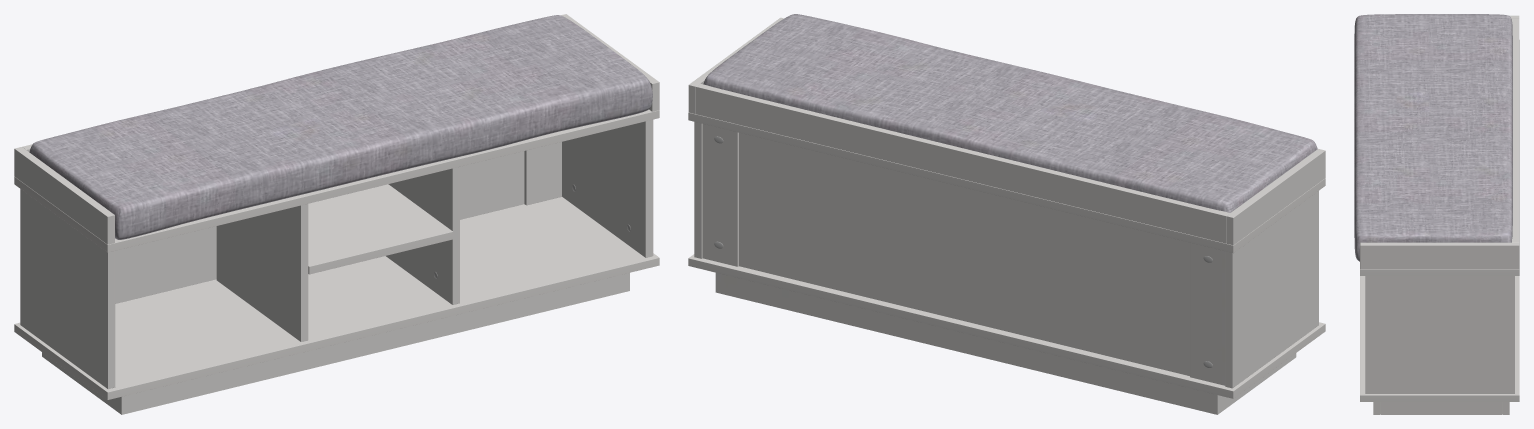
Rendered from abo-B07DBDZ4SG.glb.
3 views of the same model, side by side, from view 1: azimuth 30°, elevation 25°; view 2: azimuth 150°, elevation 25°; view 3: azimuth 270°, elevation 25° (orthographic). The views are drawn at different scales.
Bounding box in the file's own units: 1.2 × 0.453 × 0.363.
Materials: 1 (1 with a texture image).
